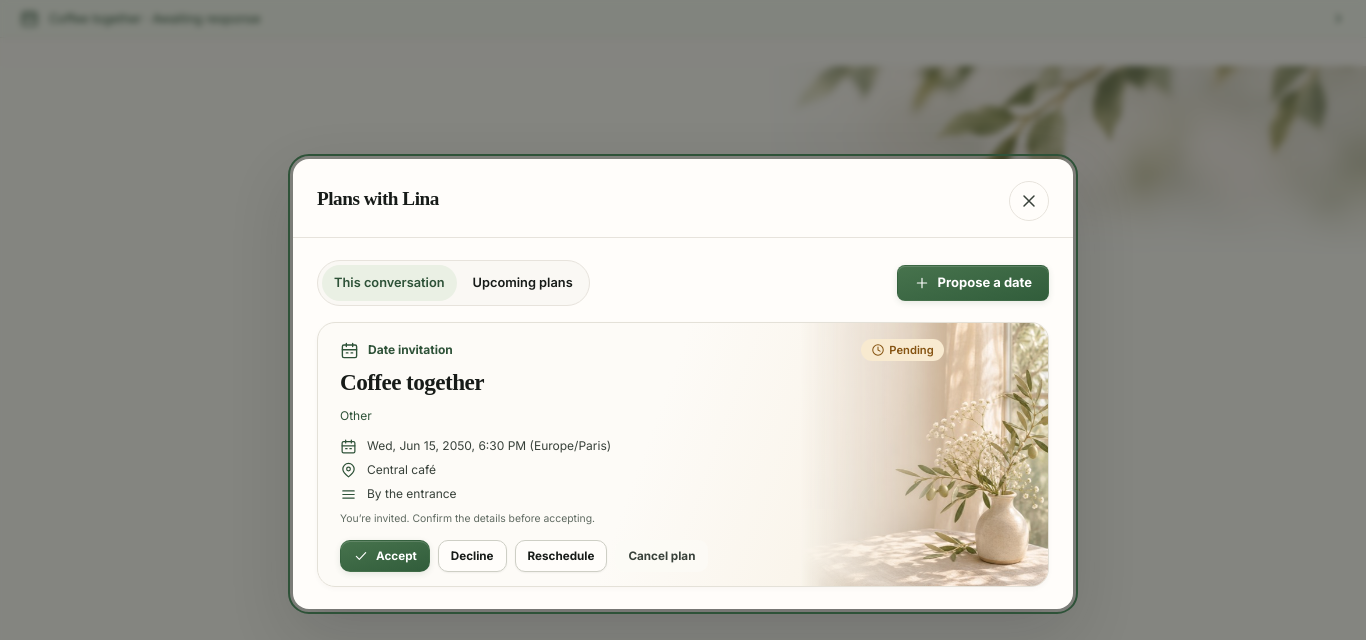
Scenario: remote changes during rescheduling preserve the draft and prevent stale submission
Step 1. Click the button "Reschedule" → (561, 556), box [515,540,607,572]
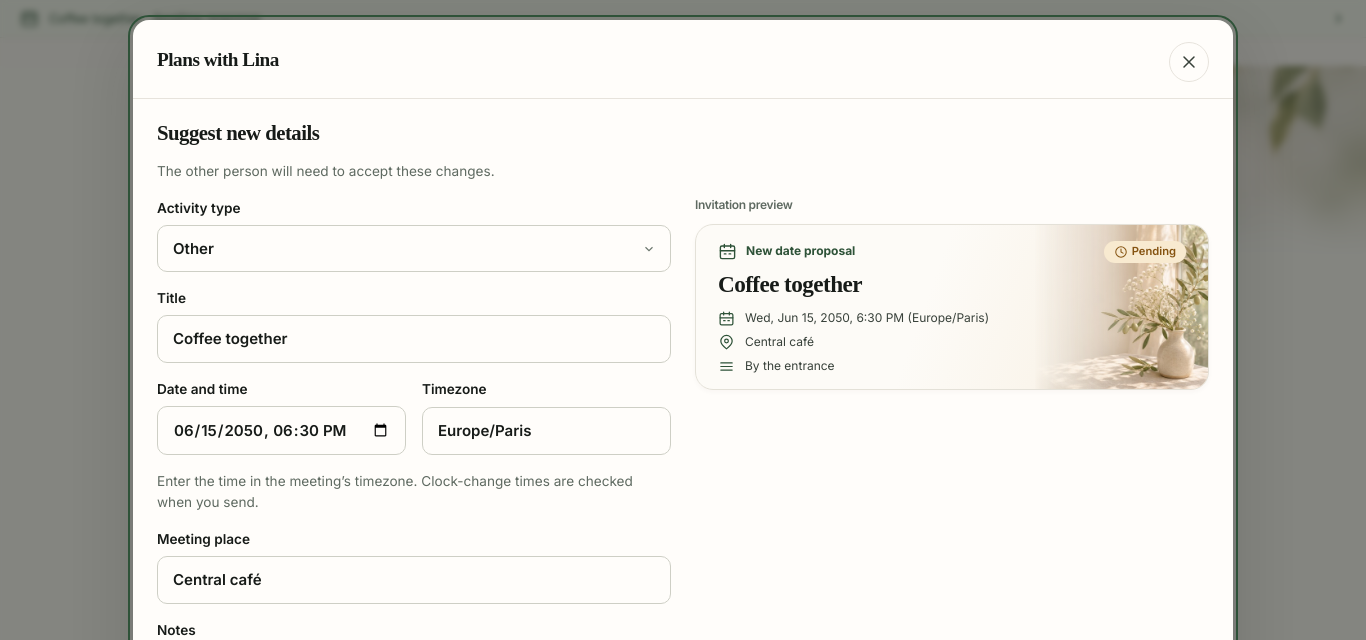
Step 2. Replace the text in the field labelled "Meeting place" with "My unfinished draft" → (414, 580), box [157,556,671,604]
Wait 2000 ms
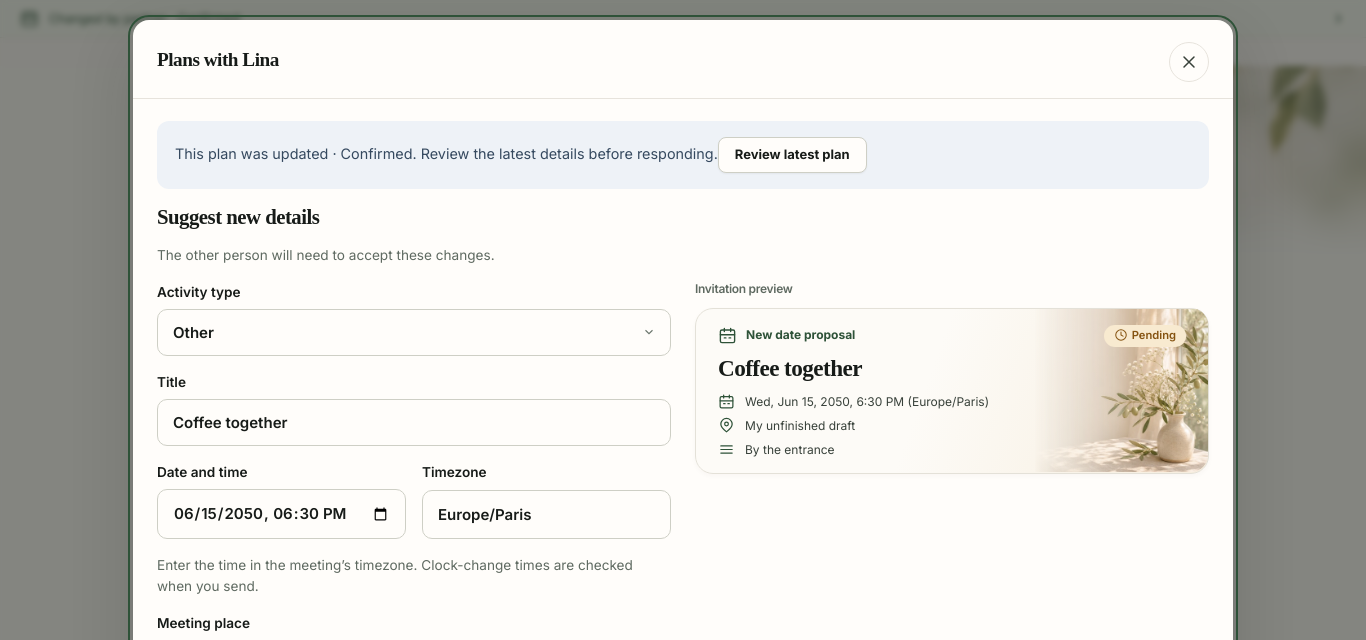
Expected: the message shows "This plan was updated", [175,145,328,162]
Step 3. Click the button "Review latest plan" → (792, 155), box [718,137,867,173]
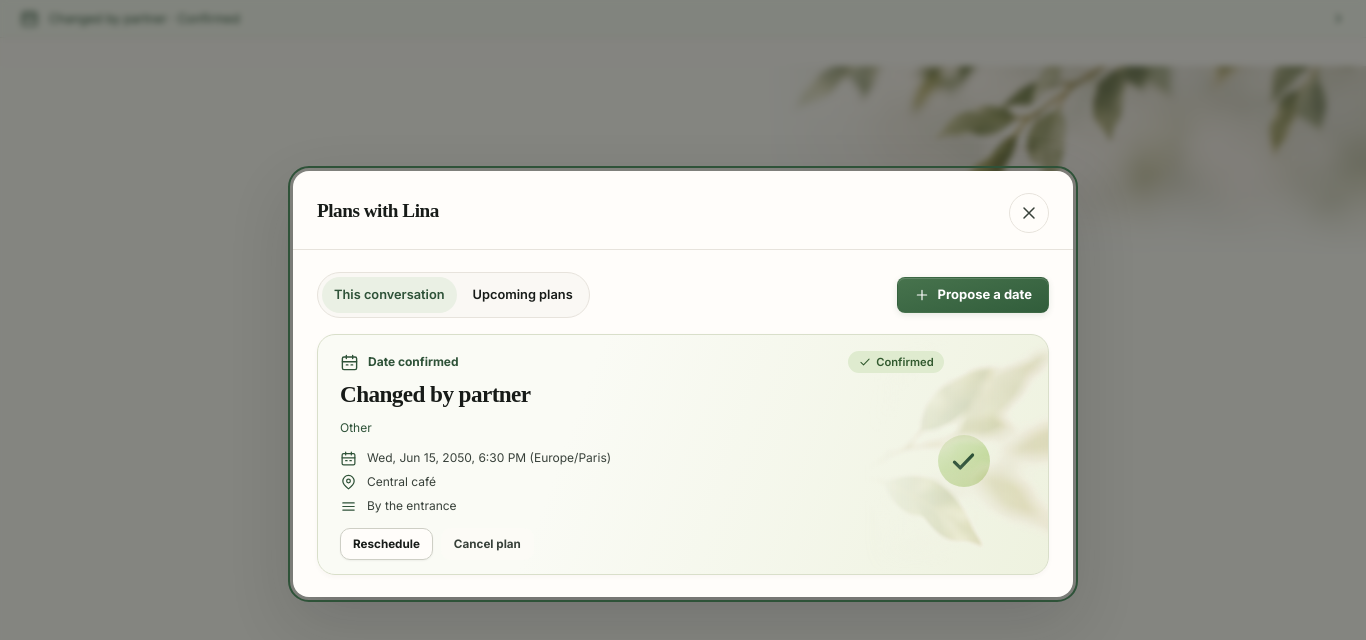
Expected: the heading "Changed by partner" is shown, [340,381,530,407]
